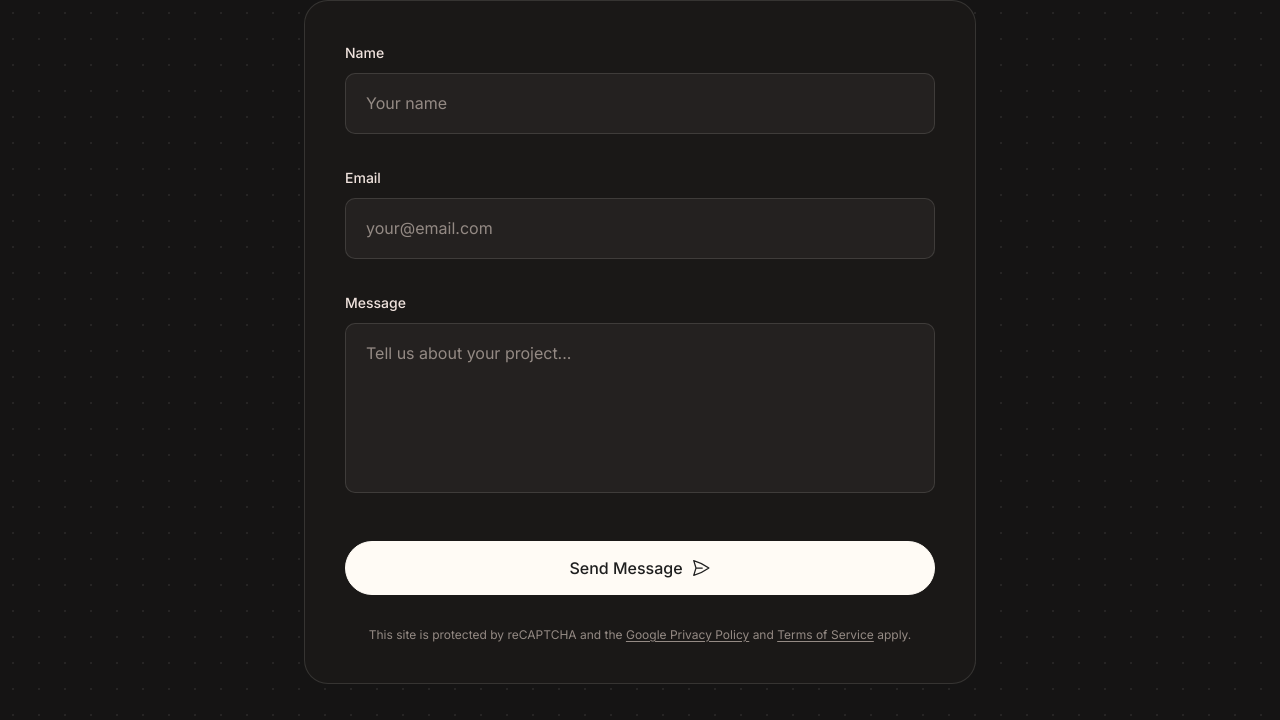
Test case: status announcements › announces failure inside the live region
Type "Jane" into the field labelled "Name".
click(640, 103); type("Jane")  # box [345, 73, 935, 134]
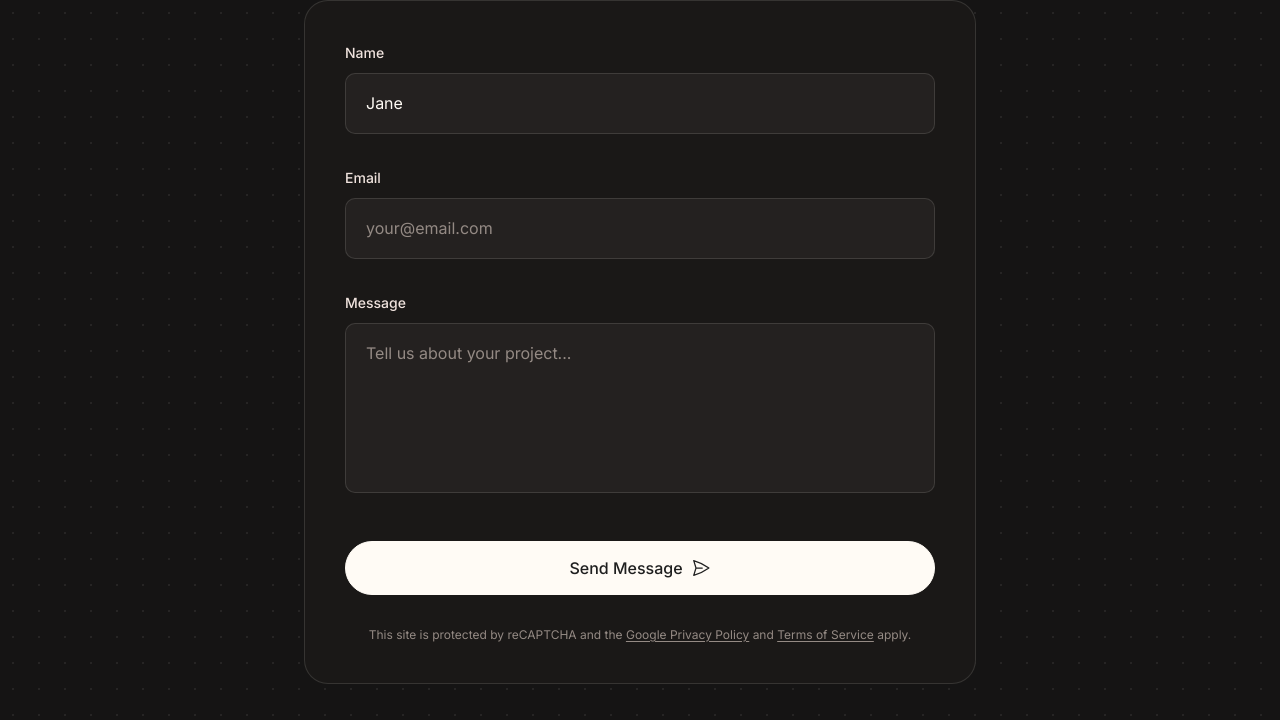
Type "jane@example.com" into the field labelled "Email".
click(640, 228); type("jane@example.com")  # box [345, 198, 935, 259]
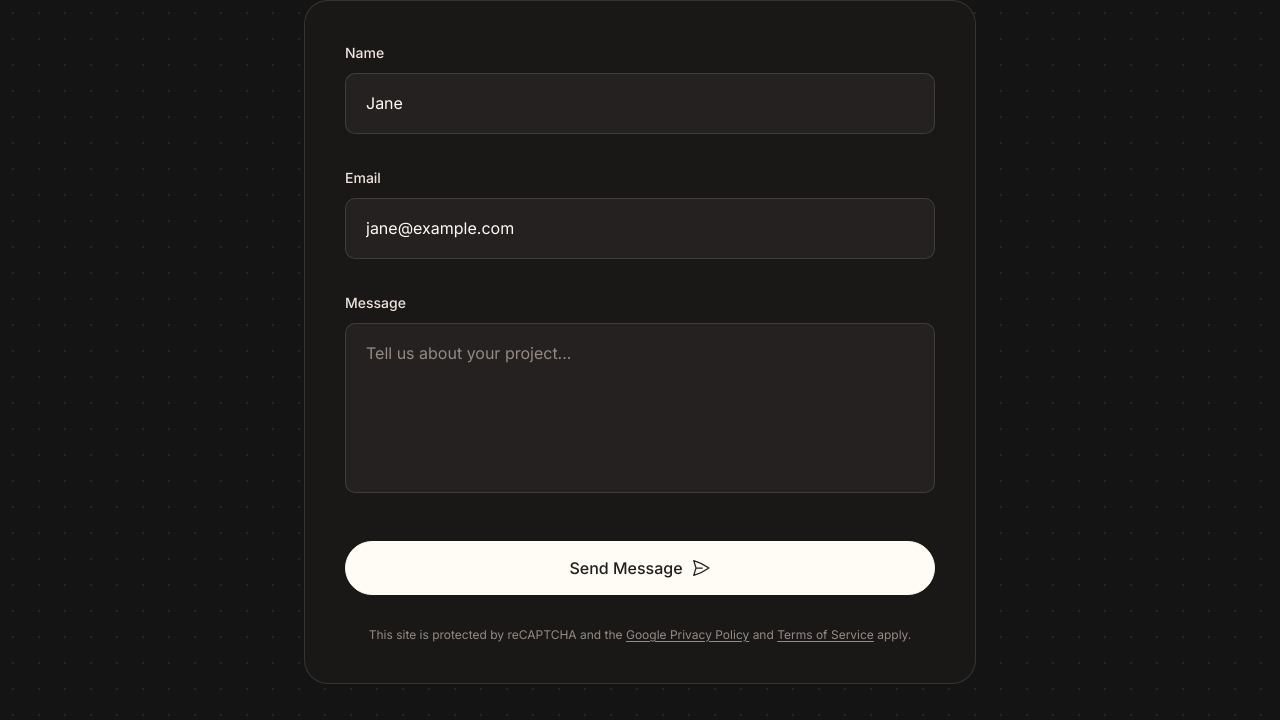
Type "Hello" into the text box labelled "Message".
click(640, 408); type("Hello")  # box [345, 323, 935, 493]
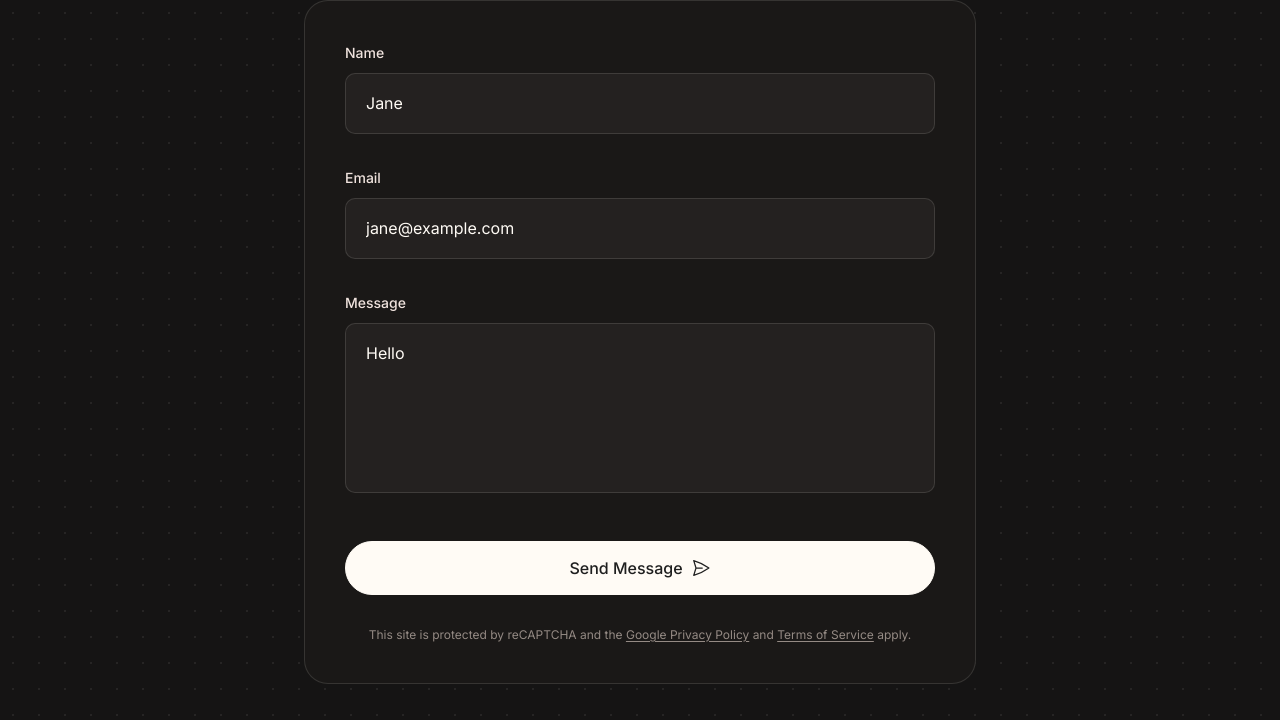
Submit the form from the button "Send Message", box [345, 541, 935, 595]
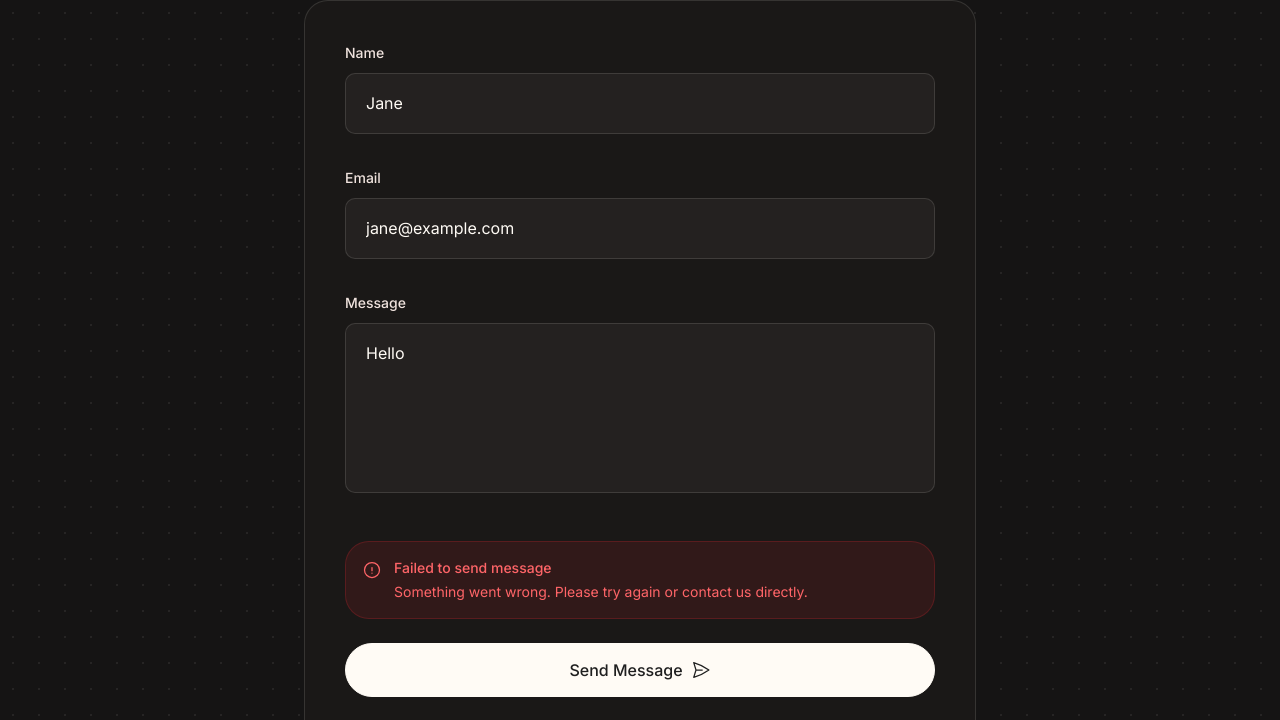
Expected: the text "Failed to send message" is shown, [394, 559, 552, 576]
